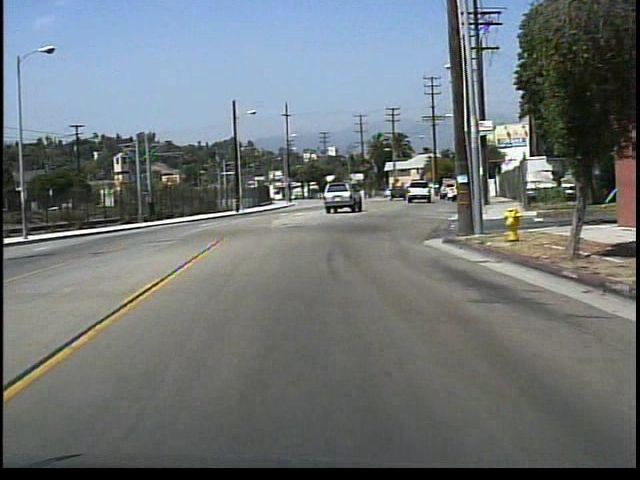person: (147, 192, 162, 223)
